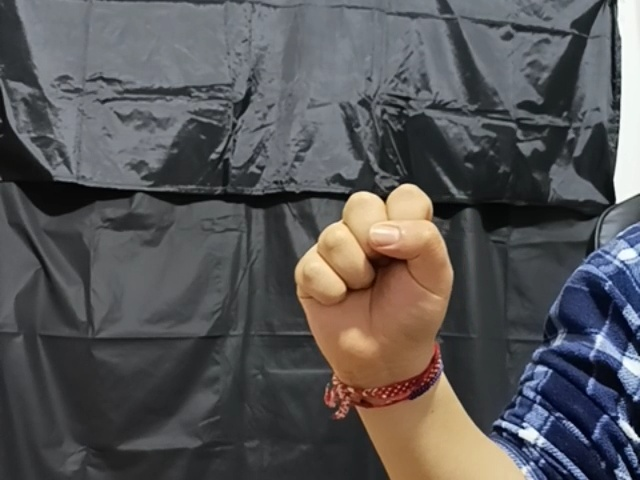S: (281, 179, 454, 380)
